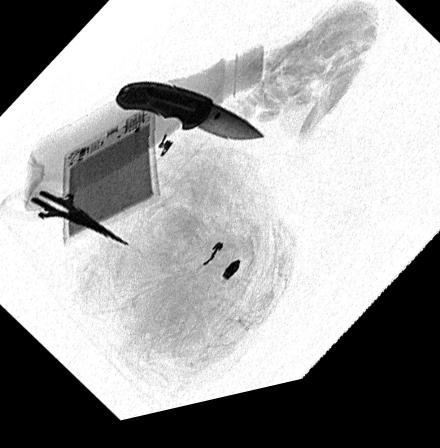Knife: (113, 86, 268, 153)
Powerbank: (62, 111, 163, 249)
Scissors: (0, 174, 131, 250)
